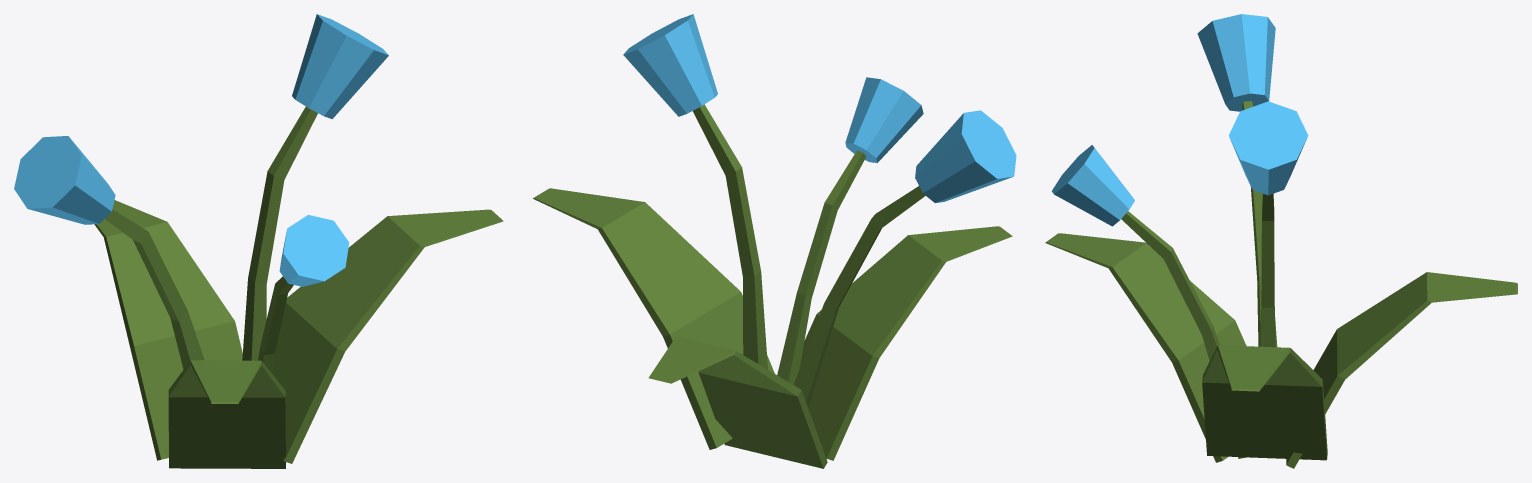
File: Flower_08.fbx
3 views of the same model, side by side, from view 1: azimuth 30°, elevation 25°; view 2: azimuth 150°, elevation 25°; view 3: azimuth 270°, elevation 25° (orthographic). The views are drawn at different scales.
Visible parts, largest first — view 1: Flower_08; view 2: Flower_08; view 3: Flower_08.
Boxes of the visible parts, x1=… form: Flower_08: x1=14, y1=14, x2=503, y2=468; Flower_08: x1=533, y1=14, x2=1016, y2=468; Flower_08: x1=1045, y1=14, x2=1517, y2=468.
Size of the model in its own units: 37.61 by 30.98 by 33.88.
